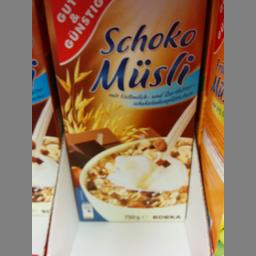cereal: (42, 0, 204, 221)
